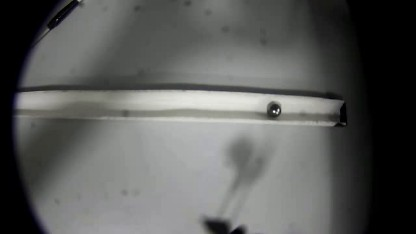gangzhu: (265, 100, 282, 118)
